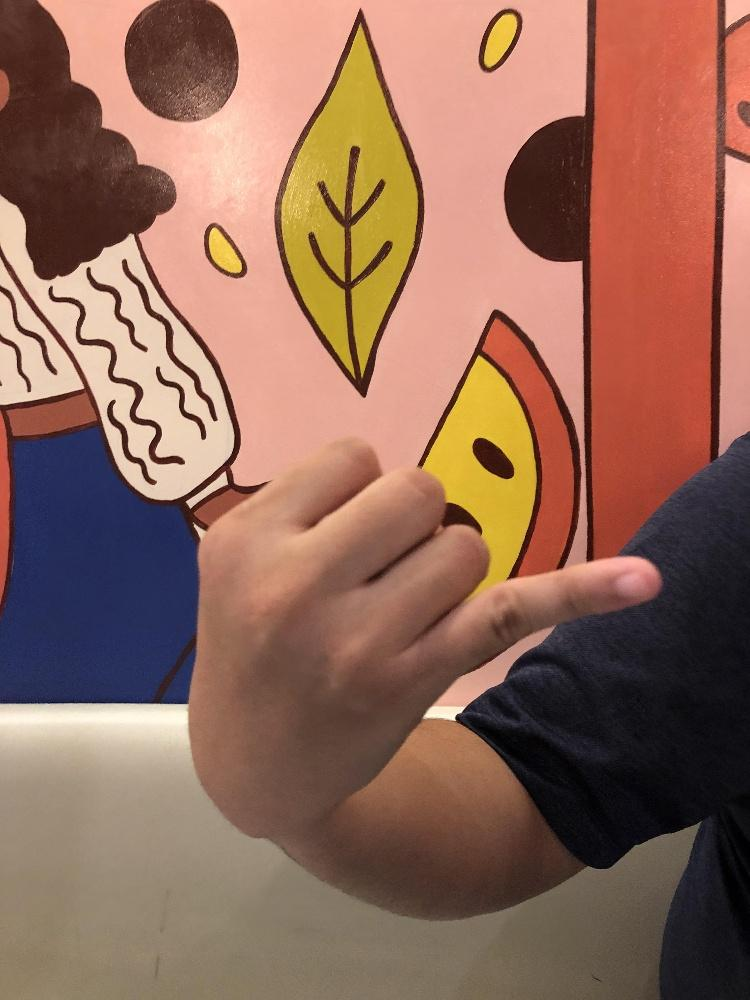j: (182, 432, 665, 843)
